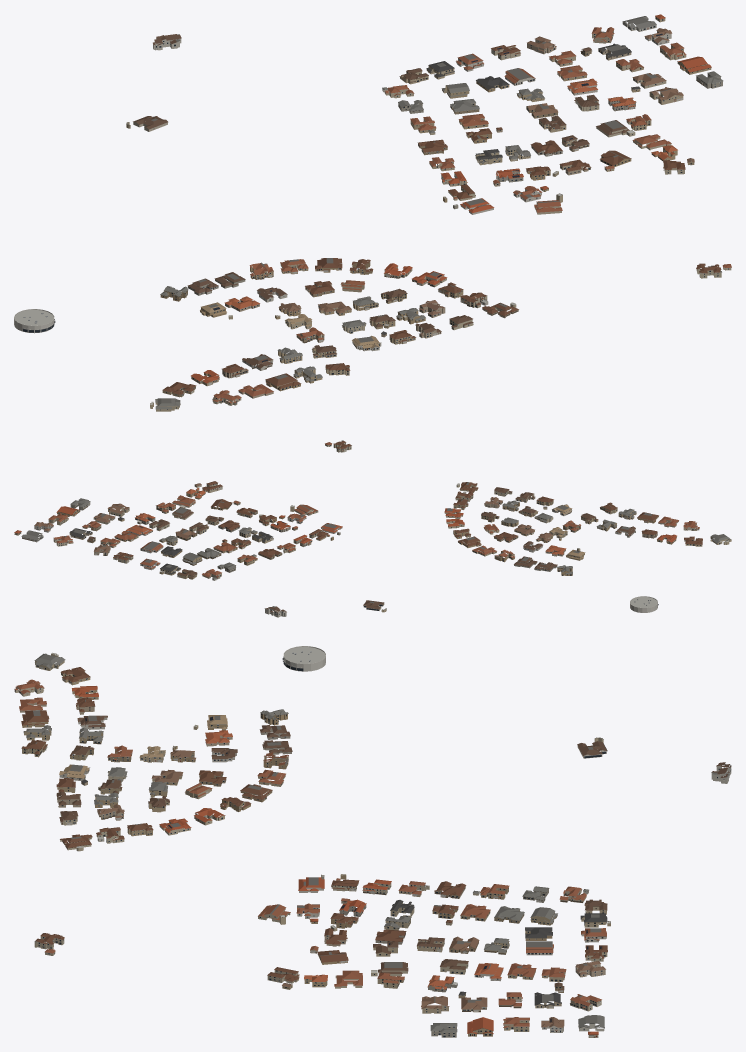
3 views of the same model, one above another, from view 1: azimuth 30°, elevation 25°; view 2: azimuth 150°, elevation 25°; view 3: azimuth 270°, elevation 25° (orthographic). The views are drawn at different scales.
Parts seen in each view (by area): view 1: buildings_r2_c3_lod0; view 2: buildings_r2_c3_lod0; view 3: buildings_r2_c3_lod0.
Part boxes in pixels (x1,y1,x2,y2): buildings_r2_c3_lod0: (14, 14, 731, 411); buildings_r2_c3_lod0: (14, 440, 731, 617); buildings_r2_c3_lod0: (14, 646, 731, 1037).
Size of the model in its own units: 1028 by 77.59 by 771.
